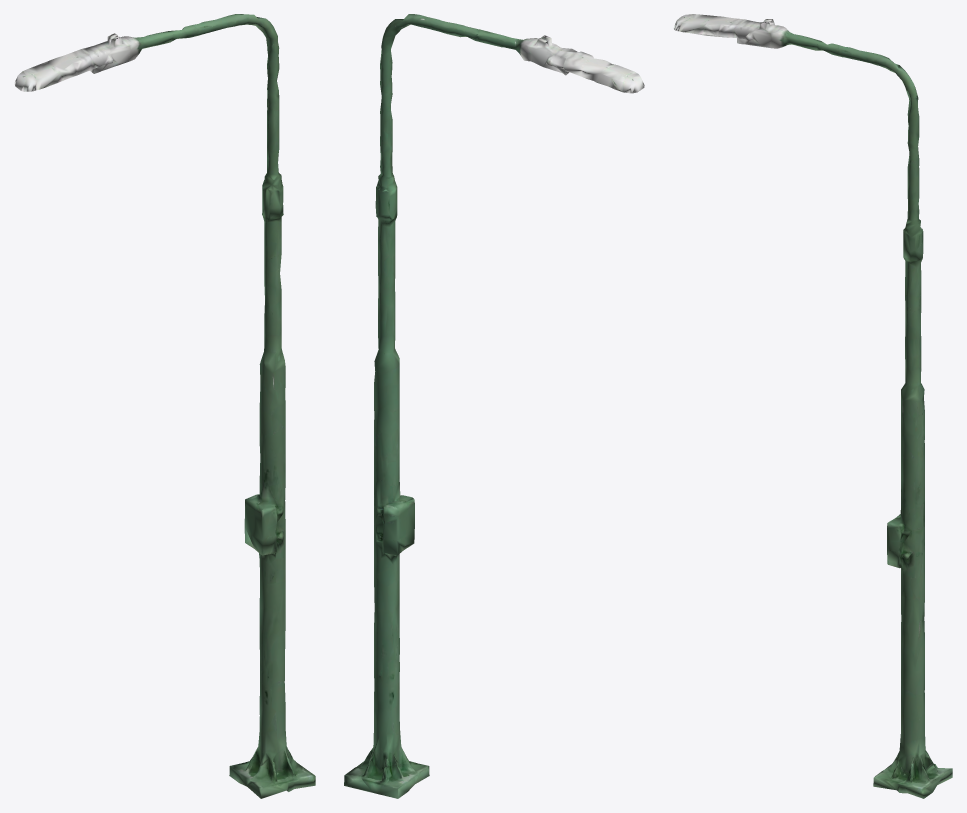
The picture shows the model from 3 angles, left to right: view 1: azimuth 30°, elevation 25°; view 2: azimuth 150°, elevation 25°; view 3: azimuth 330°, elevation 25°; orthographic projection. The views are drawn at different scales.
Visible parts, largest first — view 1: Mesh_0; view 2: Mesh_0; view 3: Mesh_0.
Boxes of the visible parts, left/top/right/bottom form: Mesh_0: left=14, top=14, right=315, bottom=798; Mesh_0: left=344, top=14, right=644, bottom=798; Mesh_0: left=673, top=14, right=952, bottom=798.
Bounding box in the file's own units: 1.13 × 3 × 0.2208.
1 material, 1 textured.
